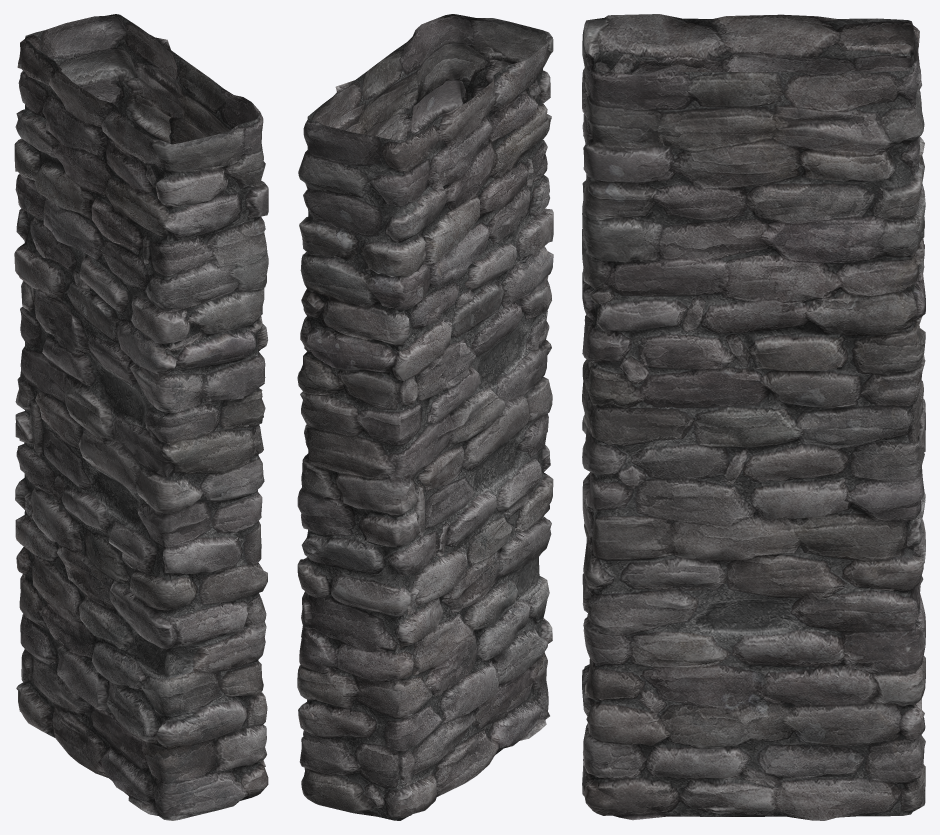
Rendered from SM_ChimneyA.FBX.
3 renders of one model, left to right at view 1: azimuth 30°, elevation 25°; view 2: azimuth 150°, elevation 25°; view 3: azimuth 270°, elevation 25°, orthographic. The views are drawn at different scales.
Parts seen in each view (by area): view 1: SM_ChimneyA_LOD0; view 2: SM_ChimneyA_LOD0; view 3: SM_ChimneyA_LOD0.
Boxes of the visible parts, x1,y1,x2,y2 form: SM_ChimneyA_LOD0: (14,14,268,820); SM_ChimneyA_LOD0: (297,14,553,820); SM_ChimneyA_LOD0: (582,14,925,820).
Size of what is drawn, in the model's own units: 63.53 by 350 by 146.
